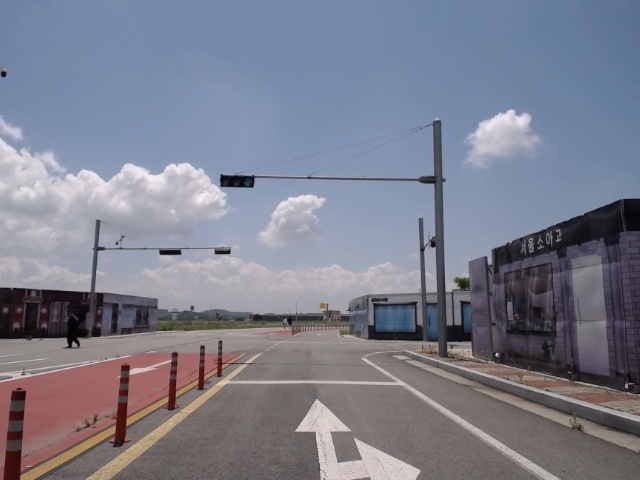green_3: (221, 176, 254, 187)
